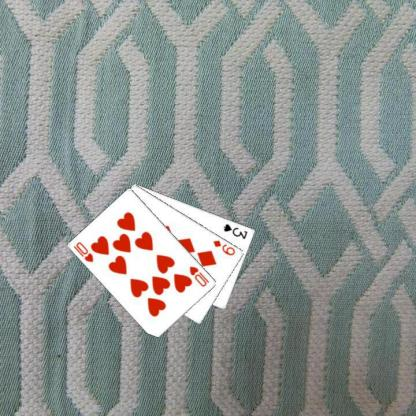10H: (71, 239, 95, 264), (188, 263, 210, 288)
3S: (221, 222, 249, 240)
9D: (211, 238, 237, 256)
